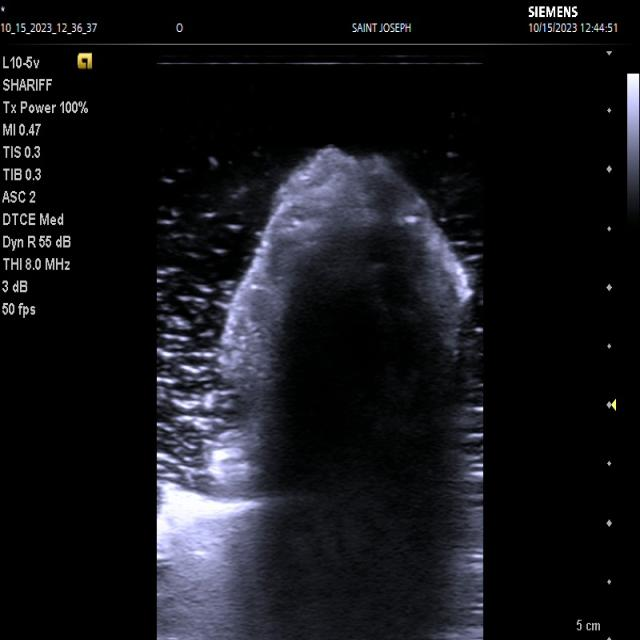tissue: (207, 148, 471, 500)
